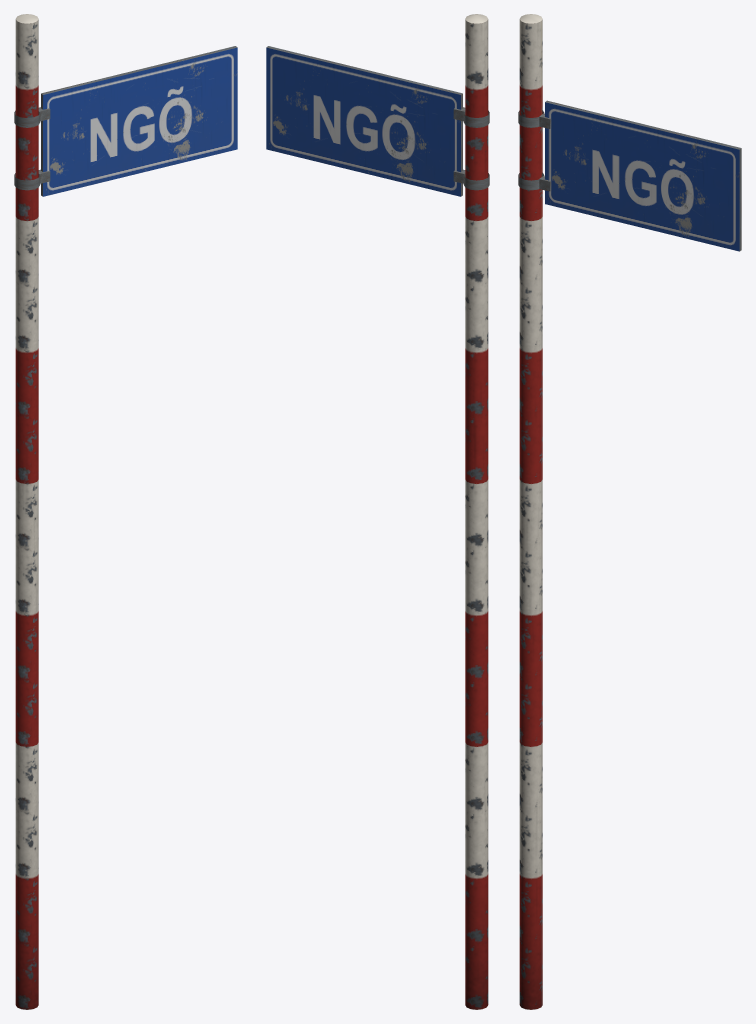
Rendered from SM_SignNgo.fbx.
3 views of the same model, side by side, from view 1: azimuth 30°, elevation 25°; view 2: azimuth 150°, elevation 25°; view 3: azimuth 330°, elevation 25° (orthographic).
Parts seen in each view (by area): view 1: SM_SignNgo_LOD0; view 2: SM_SignNgo_LOD0; view 3: SM_SignNgo_LOD0.
Boxes of the visible parts, x1,y1,x2,y2 form: SM_SignNgo_LOD0: (14,14,237,1009); SM_SignNgo_LOD0: (266,14,489,1009); SM_SignNgo_LOD0: (518,14,741,1009).
Size of what is drawn, in the model's own units: 0.703 by 3.01 by 0.072.
